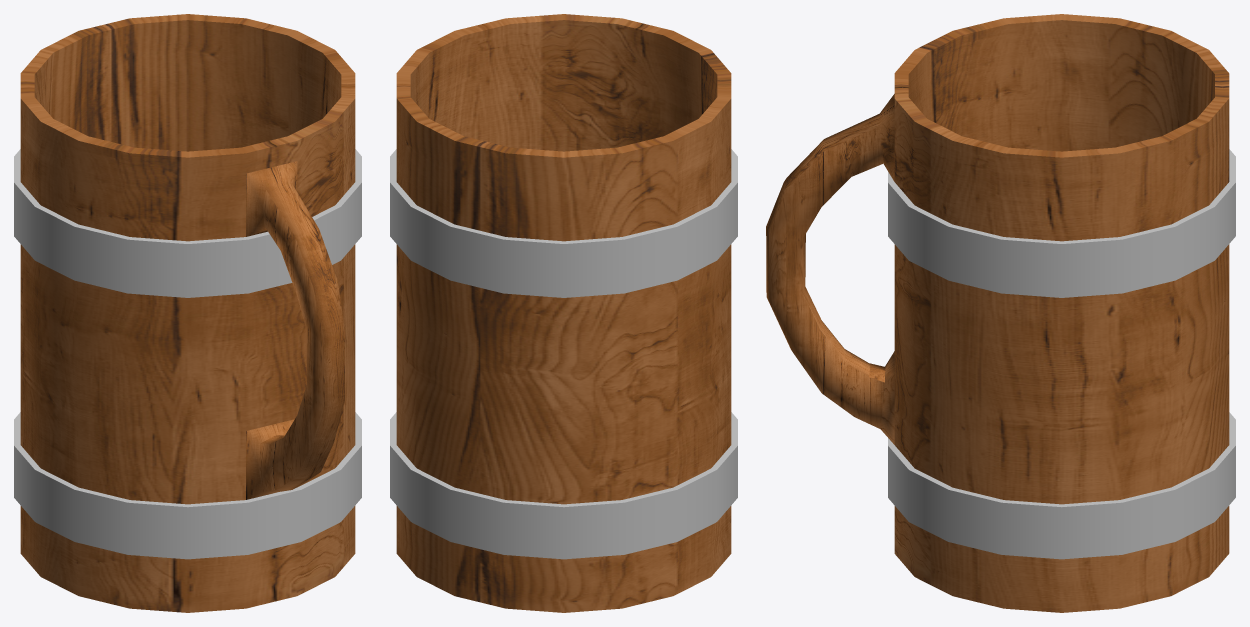
File: Mug.FBX
3 renders of one model, left to right at view 1: azimuth 30°, elevation 25°; view 2: azimuth 150°, elevation 25°; view 3: azimuth 270°, elevation 25°, orthographic.
Visible parts, largest first — view 1: Object001, Object002, Cylinder001; view 2: Object001, Object002; view 3: Object001, Object002, Cylinder001.
Boxes of the visible parts, box(x1,y1,x2,y2) form: Object001: box(20, 14, 355, 612); Object002: box(14, 149, 361, 559); Cylinder001: box(246, 161, 345, 499); Object001: box(396, 14, 731, 612); Object002: box(390, 149, 737, 559); Object001: box(894, 14, 1229, 612); Object002: box(888, 149, 1235, 559); Cylinder001: box(766, 94, 894, 444).
Bounding box in the file's own units: 62.99 × 89.56 × 83.74.
